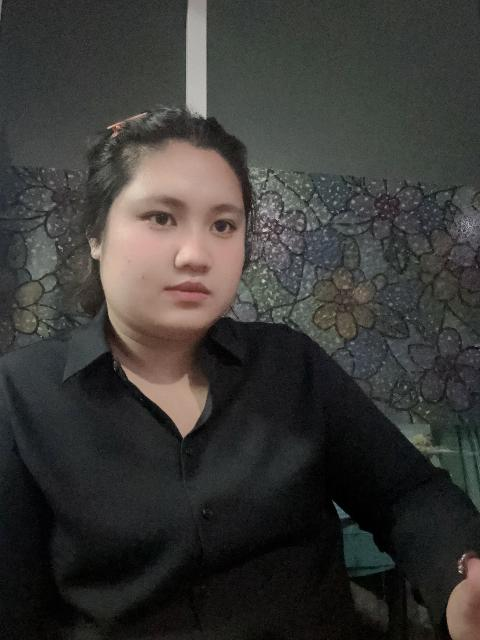fokus: (91, 115, 246, 334)
